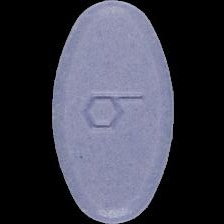54868-4030: (0, 0, 224, 224)
